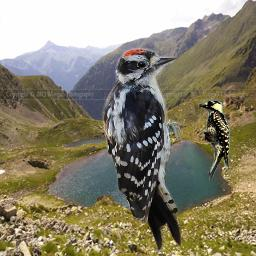Woodpecker: (100, 48, 181, 252), (197, 100, 231, 181)
